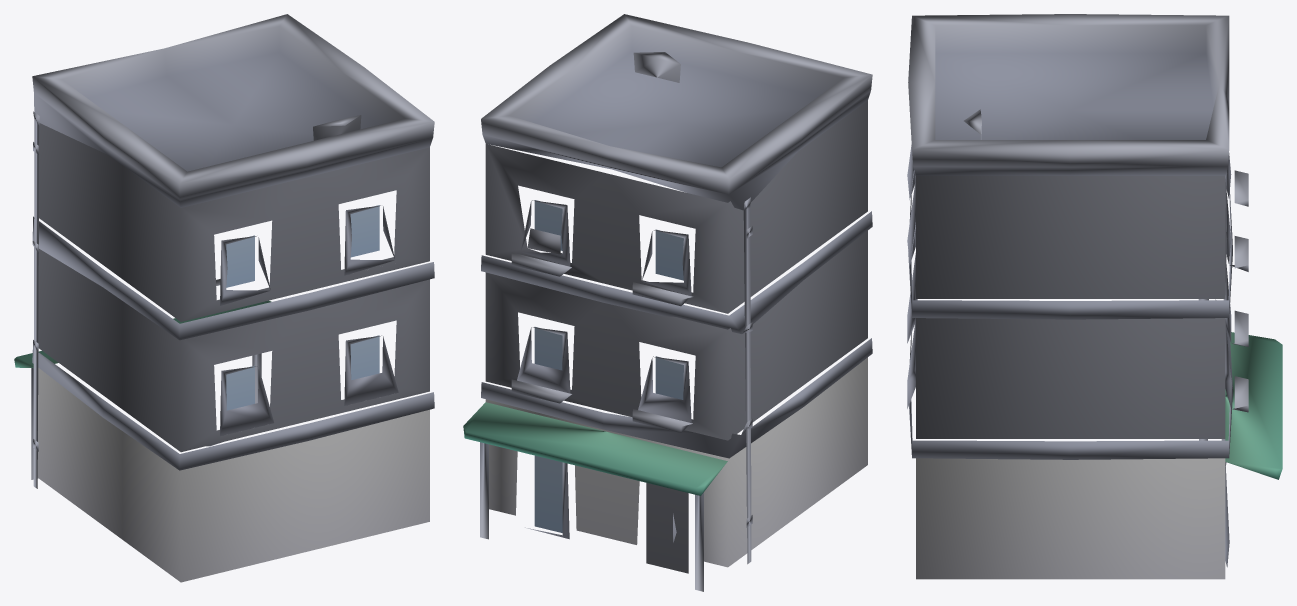
3 views of the same model, side by side, from view 1: azimuth 30°, elevation 25°; view 2: azimuth 150°, elevation 25°; view 3: azimuth 270°, elevation 25° (orthographic). The views are drawn at different scales.
Bounding box in the file's own units: 6.86 × 10.24 × 7.88.
